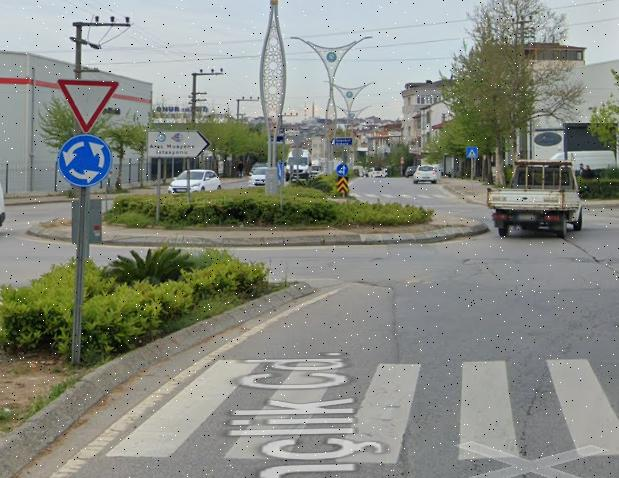crossroads: (57, 136, 113, 186)
